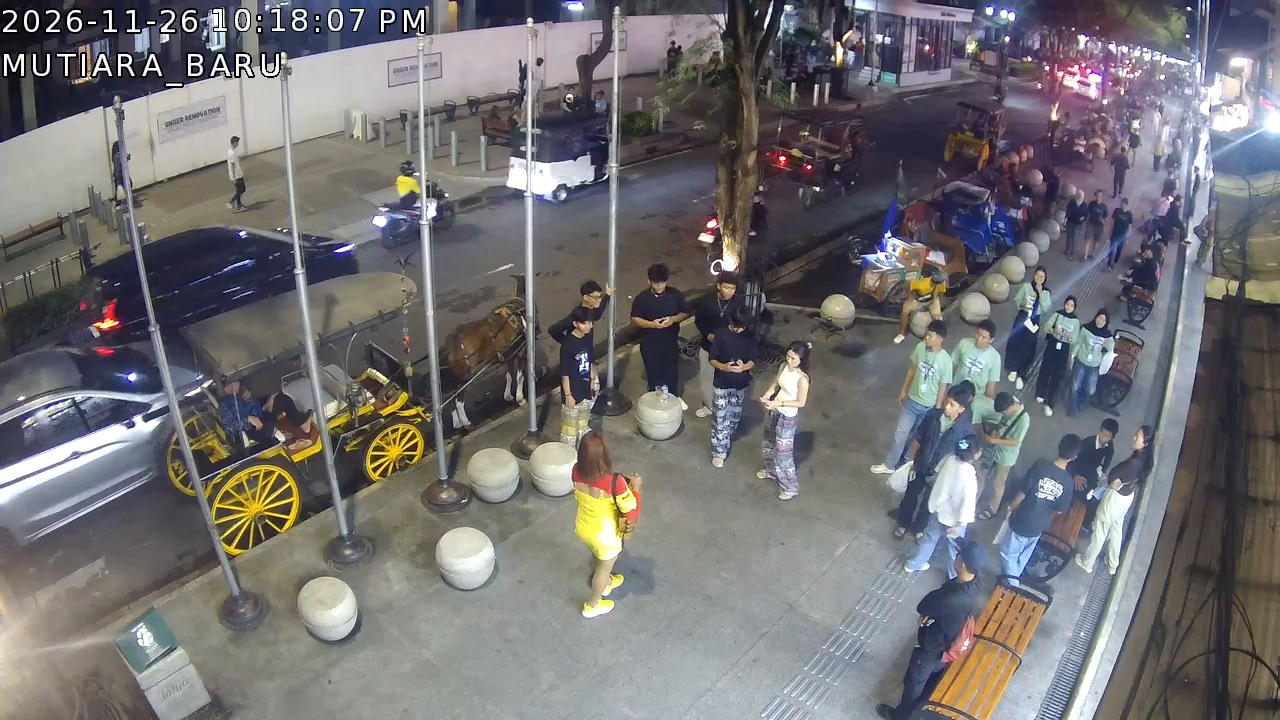Gerobak: (855, 235, 951, 313)
